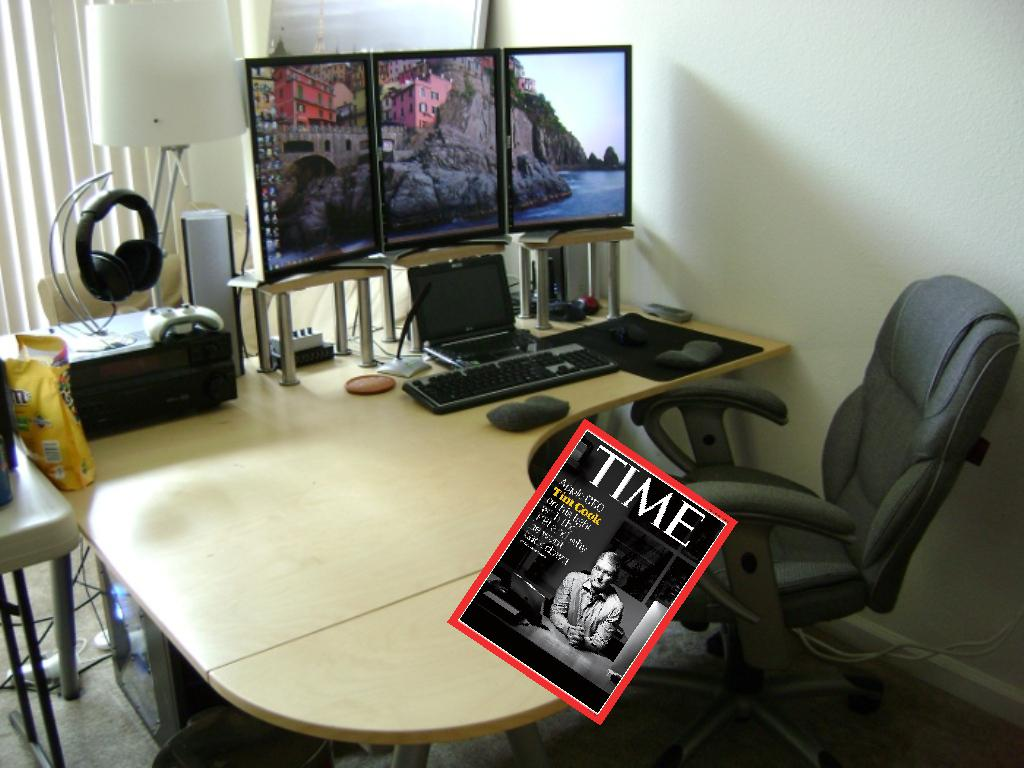times: (446, 417, 738, 732)
